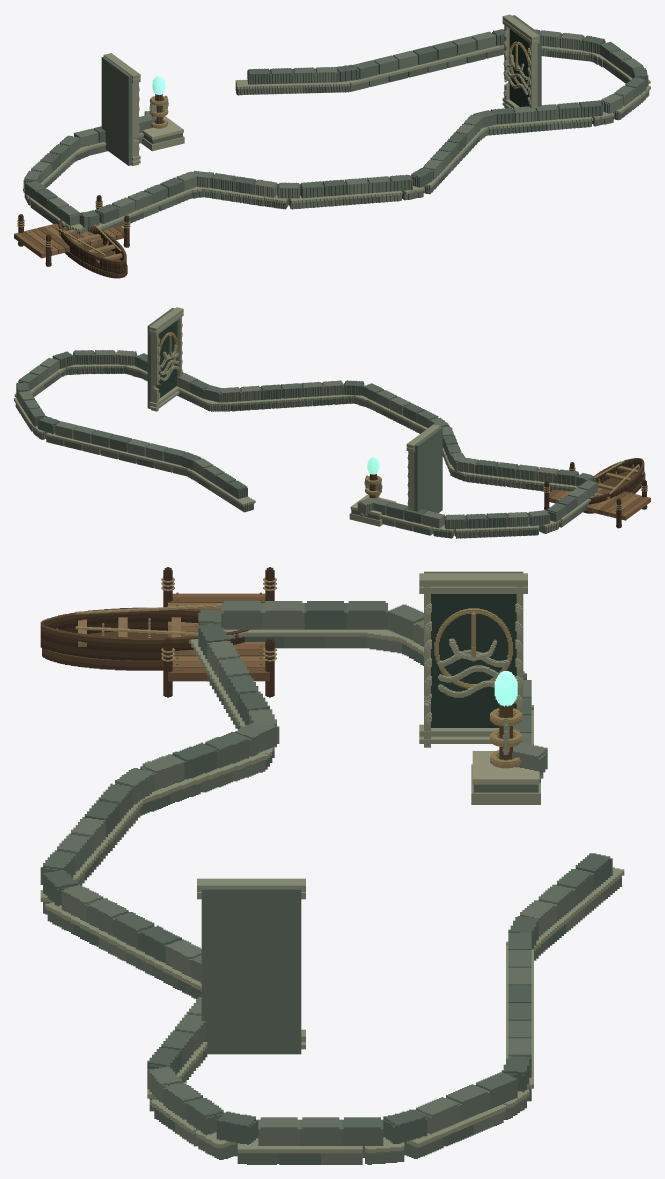
3 renders of one model, top to bottom at view 1: azimuth 30°, elevation 25°; view 2: azimuth 150°, elevation 25°; view 3: azimuth 270°, elevation 25°, orthographic. The views are drawn at different scales.
Parts seen in each view (by area): view 1: Heraldry_01_01, CarvedMasonry_-2_0_00, CarvedMasonry_1_0_00, Heraldry_01_00, CarvedMasonry_1_-1_00, CarvedMasonry_0_-1_00, CarvedMasonry_-3_0_00, CarvedMasonry_2_0_00, ClinkerSkiff_00, CarvedMasonry_2_-1_00, RopeBoundDock_00, CarvedMasonry_-1_0_00 (+8 smaller); view 2: Heraldry_01_00, Heraldry_01_01, CarvedMasonry_-3_-1_00, CarvedMasonry_-2_0_00, CarvedMasonry_2_0_00, CarvedMasonry_1_-1_00, CarvedMasonry_-2_-1_00, CarvedMasonry_0_0_00, CarvedMasonry_-3_0_00, CarvedMasonry_1_0_00, RopeBoundDock_00, CarvedMasonry_0_-1_00 (+8 smaller); view 3: Heraldry_01_00, Heraldry_01_01, CarvedMasonry_2_-1_00, CarvedMasonry_2_0_00, CarvedMasonry_-2_0_00, ClinkerSkiff_00, CarvedMasonry_-3_0_00, CarvedMasonry_0_0_00, RopeBoundDock_00, LanternBeaconCage_00, CarvedMasonry_-3_-1_00, CarvedMasonry_0_-1_00 (+8 smaller).
Part boxes in pixels (<box>): Heraldry_01_01: <box>101,53,140,165</box>; CarvedMasonry_-2_0_00: <box>128,170,278,217</box>; CarvedMasonry_1_0_00: <box>464,100,602,140</box>; Heraldry_01_00: <box>502,14,541,108</box>; CarvedMasonry_1_-1_00: <box>388,31,504,82</box>; CarvedMasonry_0_-1_00: <box>292,55,398,93</box>; CarvedMasonry_-3_0_00: <box>36,189,145,234</box>; CarvedMasonry_2_0_00: <box>592,50,650,126</box>; ClinkerSkiff_00: <box>56,219,127,278</box>; CarvedMasonry_2_-1_00: <box>492,29,620,76</box>; RopeBoundDock_00: <box>14,195,130,266</box>; CarvedMasonry_-1_0_00: <box>264,179,357,209</box>; Heraldry_01_00: <box>147,307,183,411</box>; Heraldry_01_01: <box>406,424,442,526</box>; CarvedMasonry_-3_-1_00: <box>455,503,572,538</box>; CarvedMasonry_-2_0_00: <box>441,426,538,489</box>; CarvedMasonry_2_0_00: <box>29,350,141,389</box>; CarvedMasonry_1_-1_00: <box>45,421,154,468</box>; CarvedMasonry_-2_-1_00: <box>357,498,466,538</box>; CarvedMasonry_0_0_00: <box>230,381,333,411</box>; CarvedMasonry_-3_0_00: <box>525,467,598,519</box>; CarvedMasonry_1_0_00: <box>134,353,241,411</box>; RopeBoundDock_00: <box>543,462,650,528</box>; CarvedMasonry_0_-1_00: <box>145,443,224,490</box>; Heraldry_01_00: <box>197,878,305,1054</box>; Heraldry_01_01: <box>419,571,527,747</box>; CarvedMasonry_2_-1_00: <box>321,1055,531,1164</box>; CarvedMasonry_2_0_00: <box>147,1066,341,1164</box>; CarvedMasonry_-2_0_00: <box>140,657,279,803</box>; ClinkerSkiff_00: <box>40,604,250,670</box>; CarvedMasonry_-3_0_00: <box>189,601,346,704</box>; CarvedMasonry_0_0_00: <box>71,898,201,999</box>; RopeBoundDock_00: <box>161,567,276,697</box>; LanternBeaconCage_00: <box>471,704,540,804</box>; CarvedMasonry_-3_-1_00: <box>325,601,423,665</box>; CarvedMasonry_0_-1_00: <box>506,884,575,979</box>.
Size of the model in its own units: 34.71 by 5.41 by 15.12.
